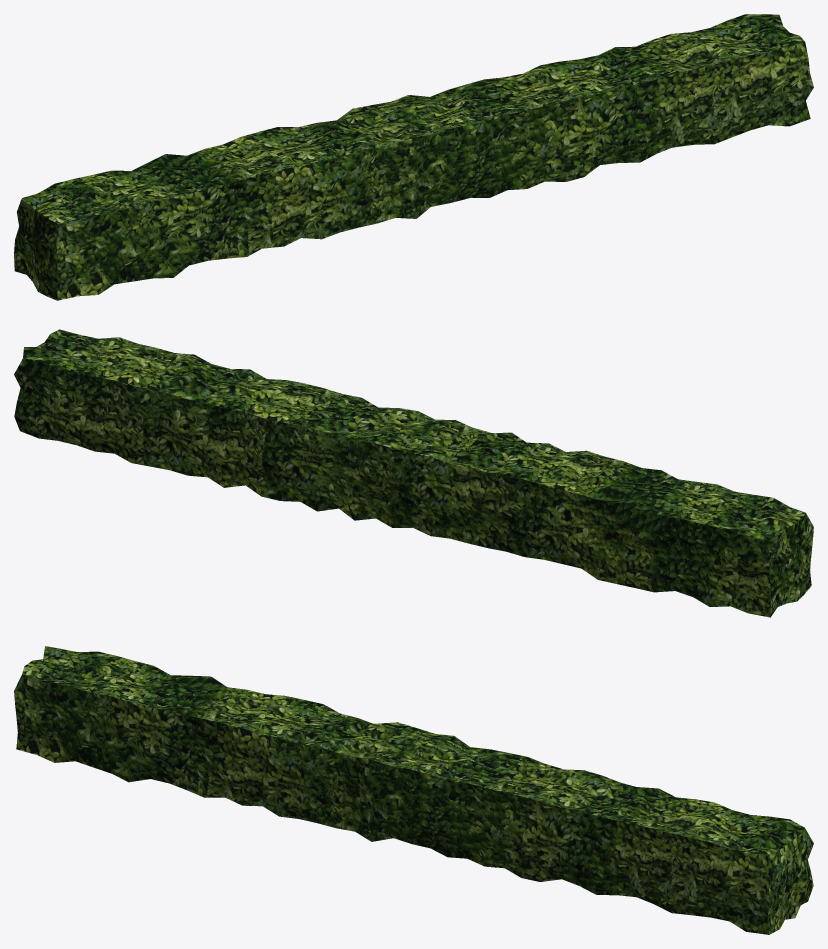
The model's file is hedge-clipped-8m.glb.
3 views of the same model, one above another, from view 1: azimuth 30°, elevation 25°; view 2: azimuth 150°, elevation 25°; view 3: azimuth 330°, elevation 25° (orthographic).
Parts seen in each view (by area): view 1: Object_2; view 2: Object_2; view 3: Object_2.
Boxes of the visible parts, x1=… form: Object_2: x1=14, y1=14, x2=813, y2=300; Object_2: x1=14, y1=329, x2=813, y2=617; Object_2: x1=14, y1=646, x2=813, y2=934.
Size of the model in its own units: 11.37 by 1.25 by 1.25.
Materials: 1 (1 with a texture image).
